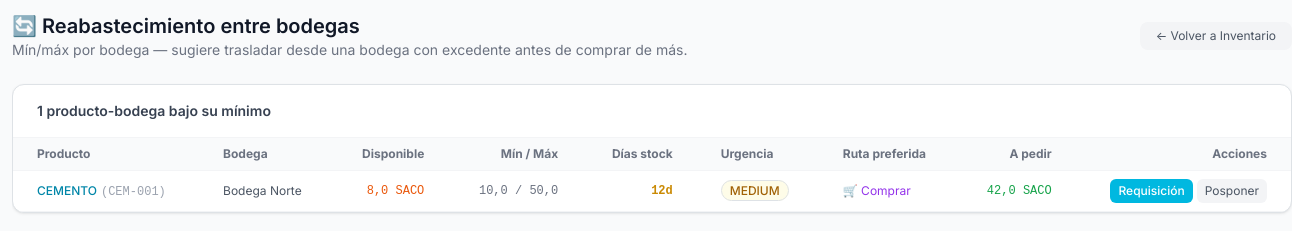
Test case: ReplenishmentPage › pospone una sugerencia y la quita de la lista
Click the button "Posponer" at (1232,191), box [1197, 179, 1267, 203]
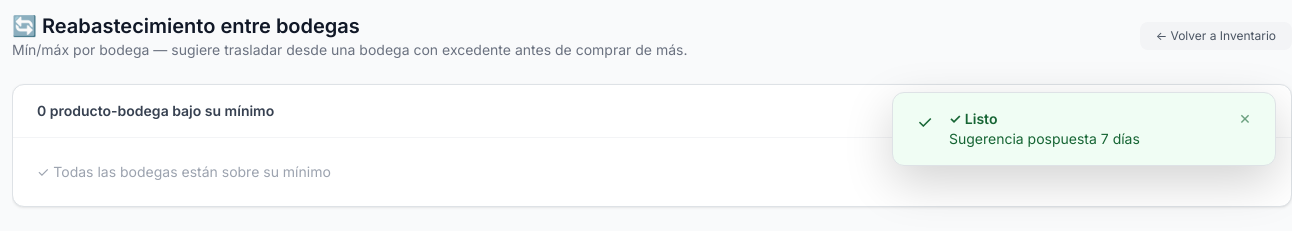
Now the text "✓ Todas las bodegas están sobre su mínimo" is shown, box [37, 163, 331, 180]
